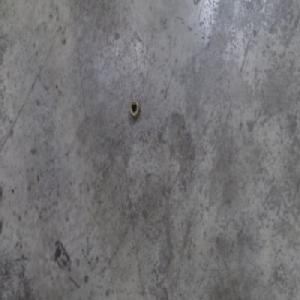Nut: (128, 99, 140, 120)
